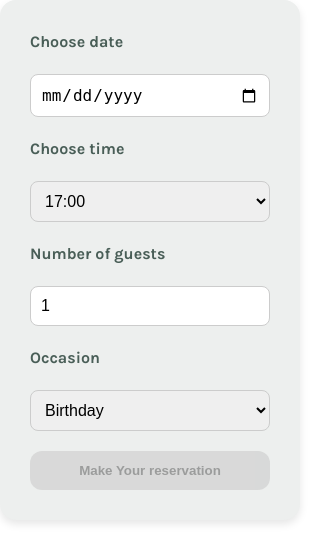
Test: Submit button is enabled when form input fields are valid
// Gültiges Datum eingeben
Type "2026-10-15" into the date field labelled "Choose date".
click(150, 96); type("2026-10-15")  # box [30, 74, 270, 117]
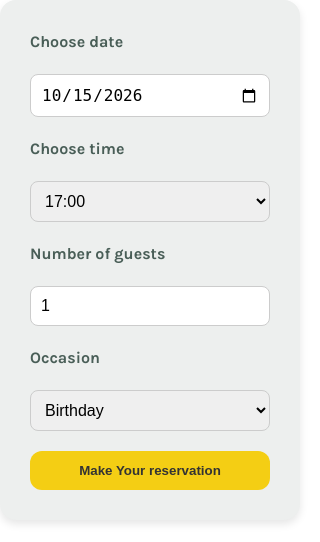
Expected: the button "Make Your reservation" is enabled, [30, 451, 270, 490]
